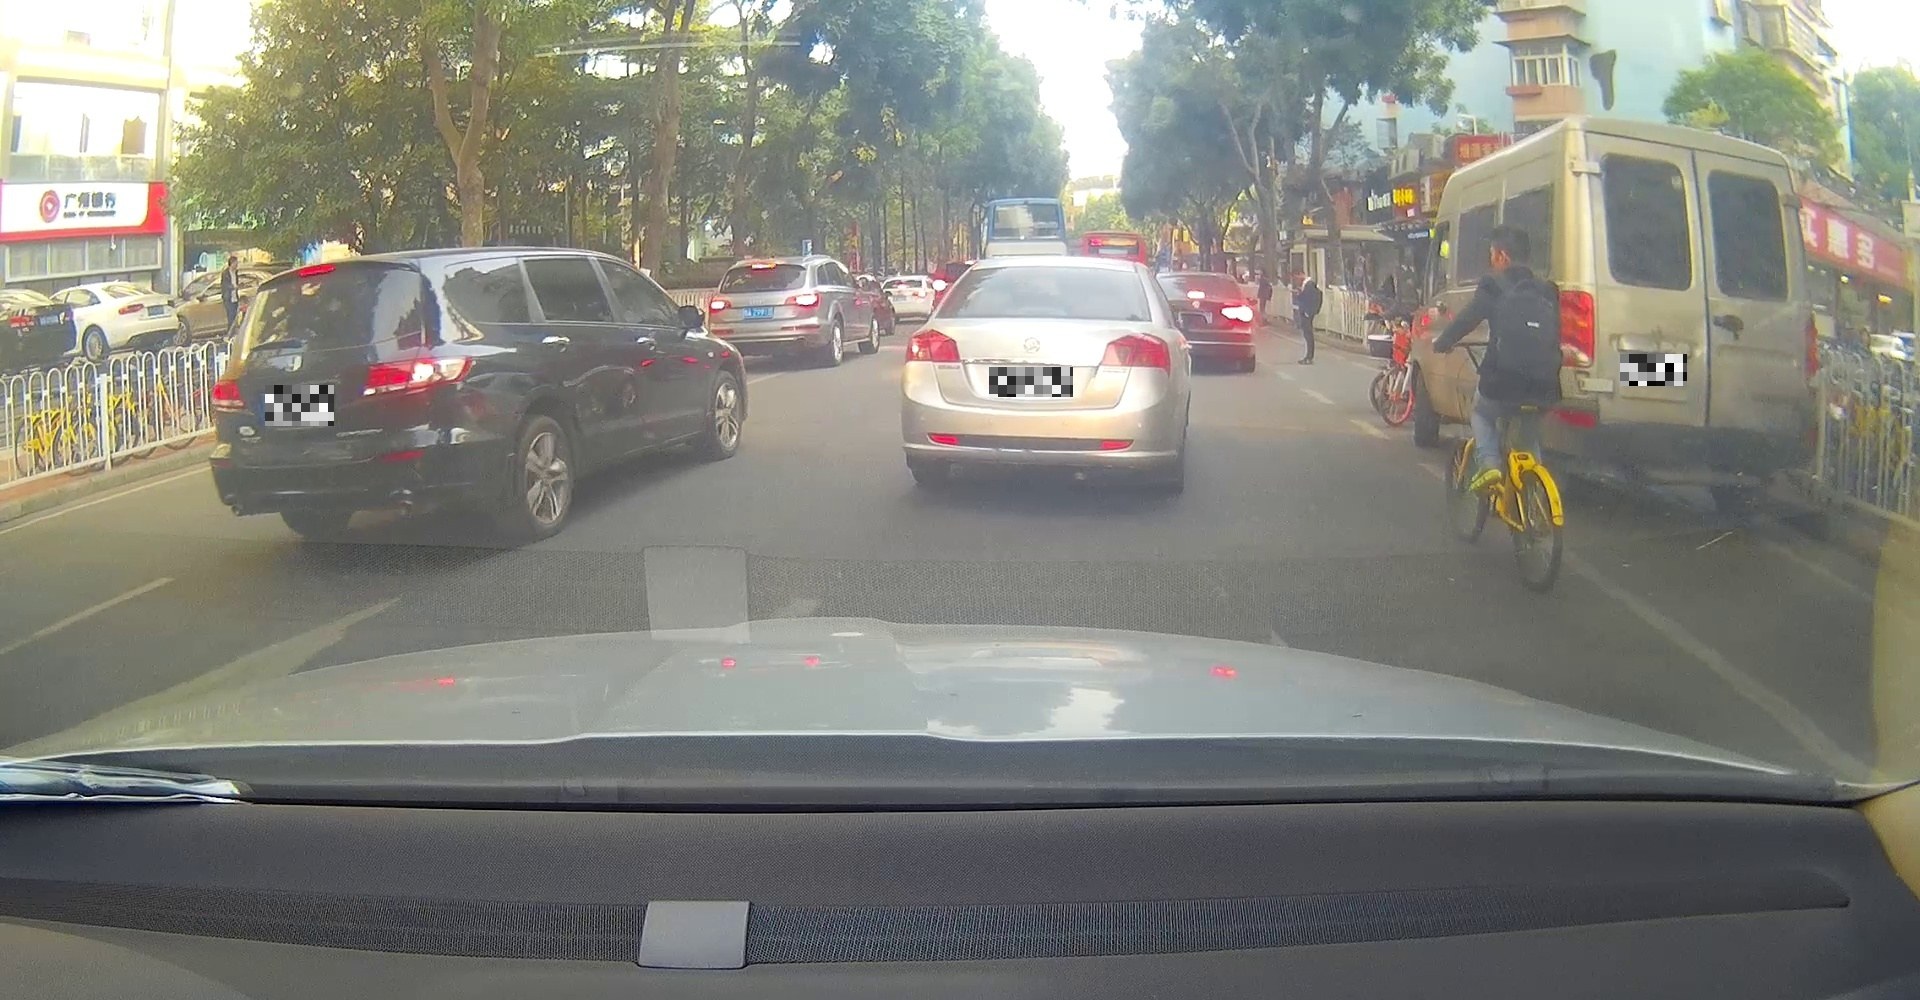L_light: (1558, 291, 1594, 368), (904, 327, 960, 363), (210, 378, 253, 416), (709, 301, 731, 313)
R_light: (359, 353, 474, 402), (1098, 332, 1170, 376), (1803, 312, 1820, 390), (783, 293, 819, 308)
T_light: (1665, 143, 1722, 162), (297, 265, 335, 275), (1031, 266, 1072, 273), (750, 263, 776, 269)
day-brake: (210, 250, 476, 541), (709, 256, 819, 367)
day-no: (1559, 115, 1821, 508), (904, 255, 1171, 494)
plate_1: (265, 385, 334, 426)
plate_2: (989, 367, 1073, 397)
plate_3: (1620, 354, 1688, 386)
